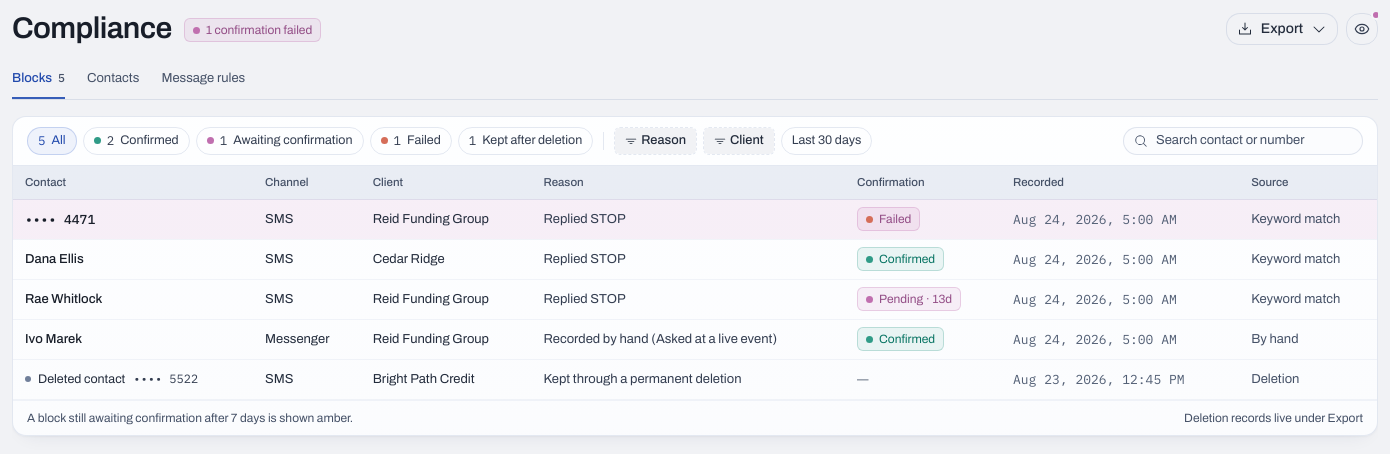
Scenario: OwnerCompliance › narrows the table to failed rows when the count chip is pressed
Expected: the number of rows is 6, [13,166,1377,199]; [13,199,1377,239]; [13,239,1377,279]; [13,279,1377,319]; [13,319,1377,359]; [13,359,1377,399]
Click the button "1 Failed". click: [411, 140]
box: [370,126,452,154]
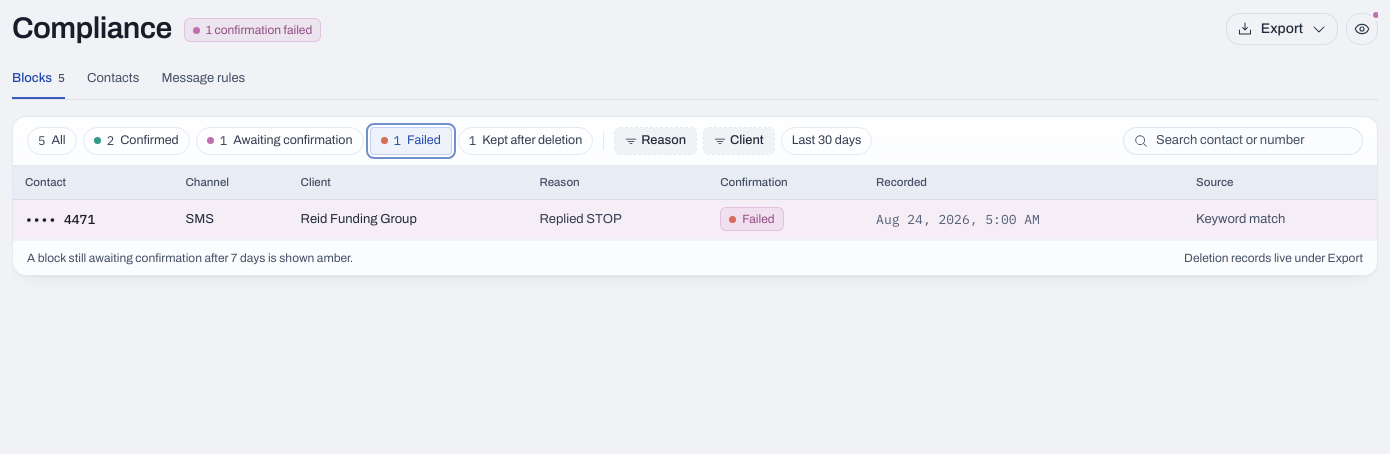
Expected: the text "Failed" is shown, [720,207,784,231]
Expected: the number of rows is 2, [13,166,1377,199]; [13,199,1377,239]
